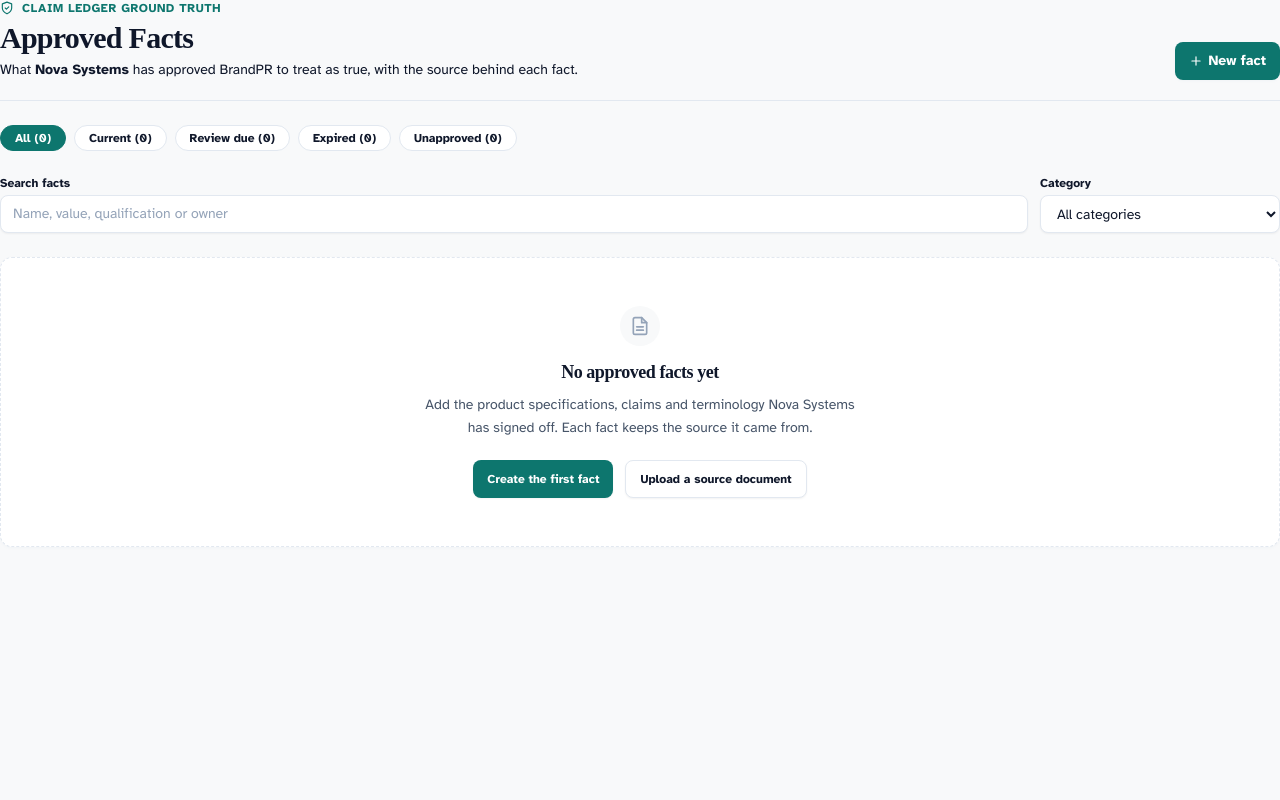
it: Approved Facts page › P1-27: a new fact appears in the list after saving, without a manual refresh
Click the button "Create the first fact".
click(543, 478)  # box [473,460,614,498]
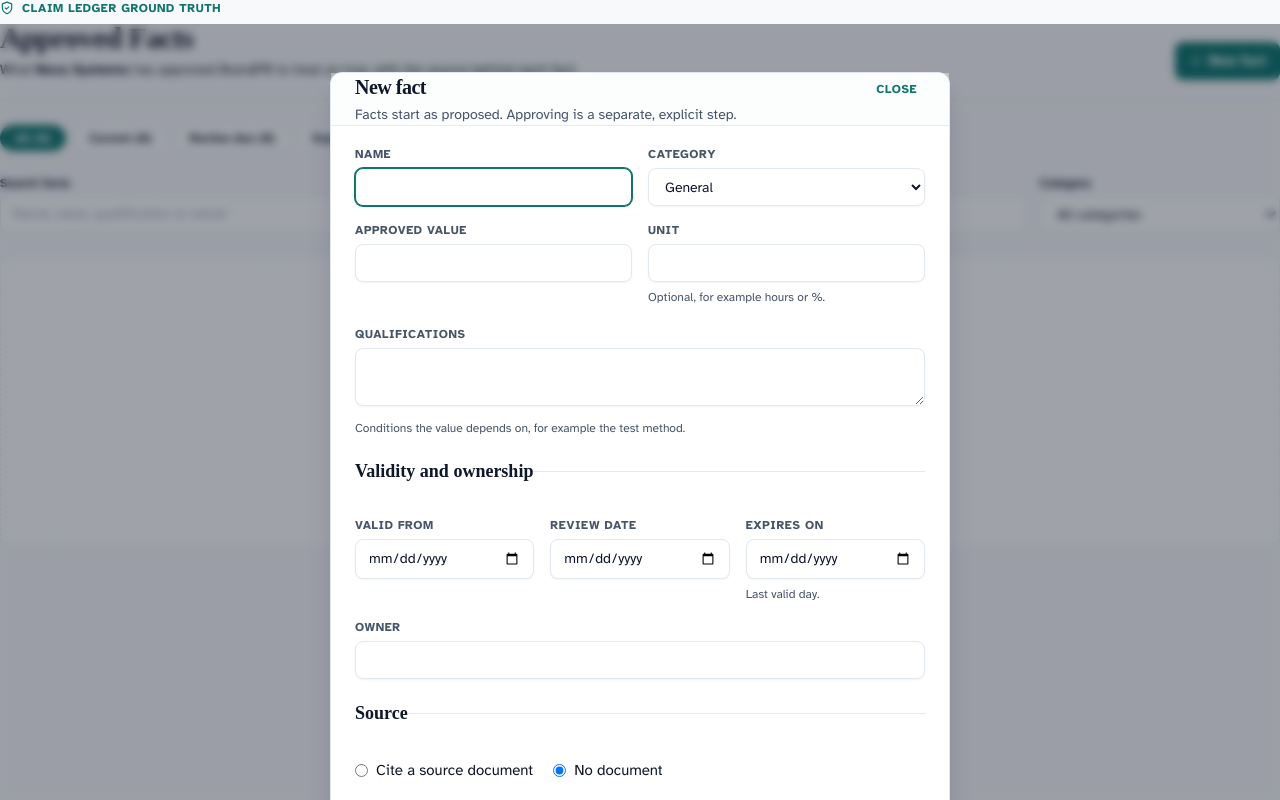
Type "Performance improvement" into the field labelled "Name".
click(494, 187); type("Performance improvement")  # box [355,168,632,206]
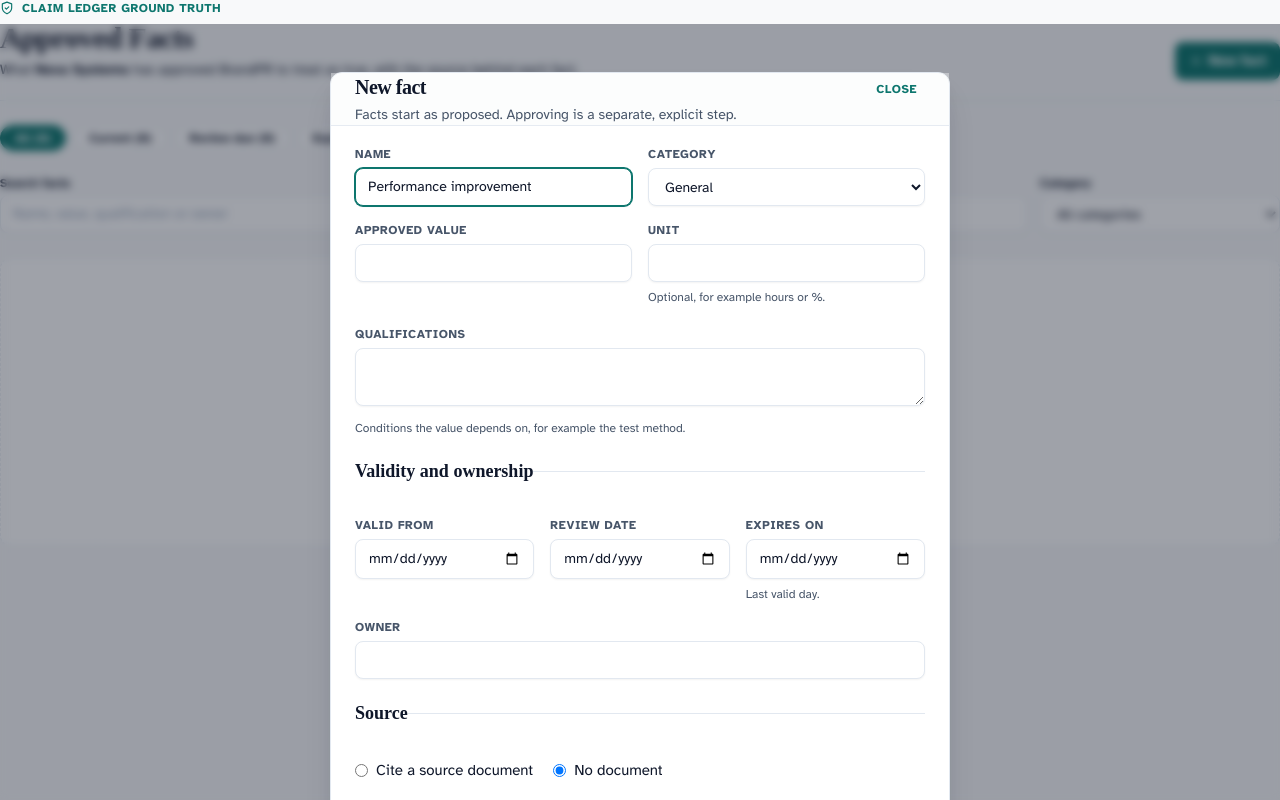
Type "25" into the field labelled "Approved value".
click(494, 263); type("25")  # box [355,244,632,282]
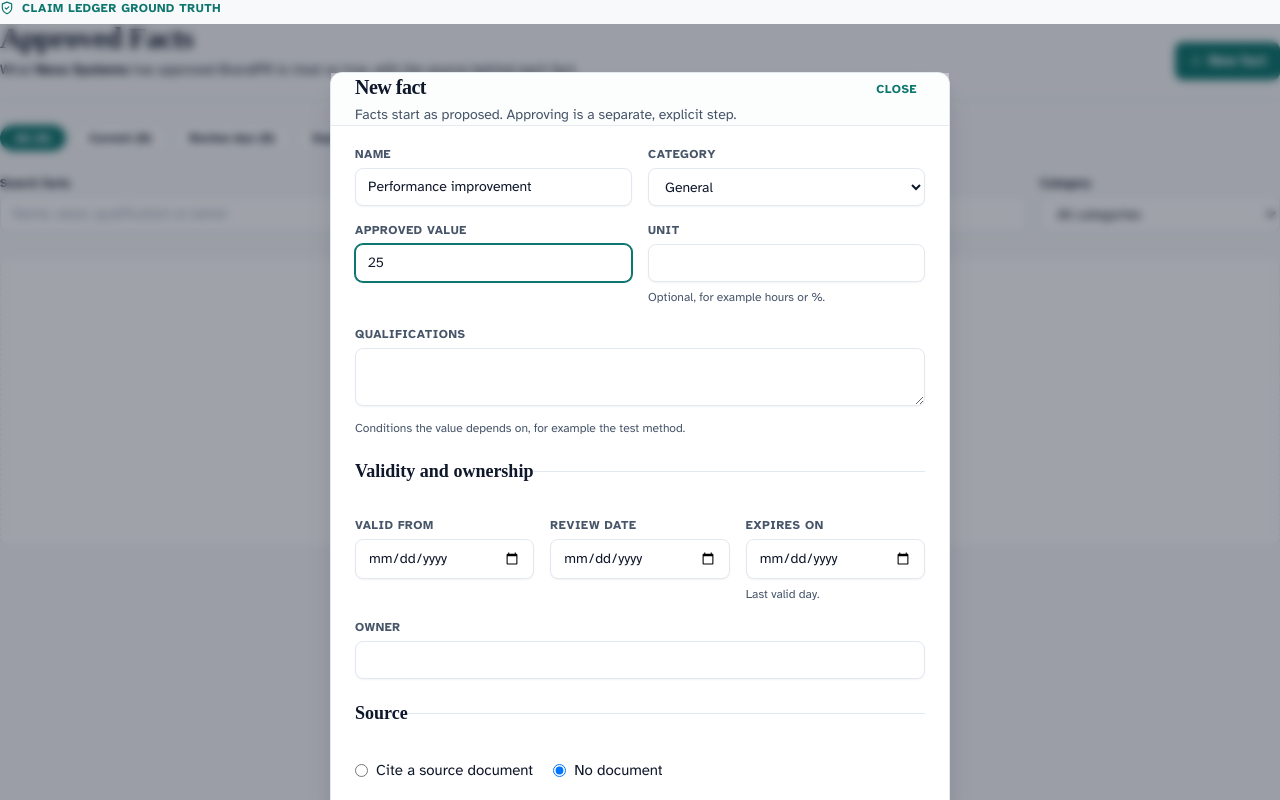
Type "%" into the field labelled "Unit".
click(786, 263); type("%")  # box [648,244,925,282]
(page scrolled)
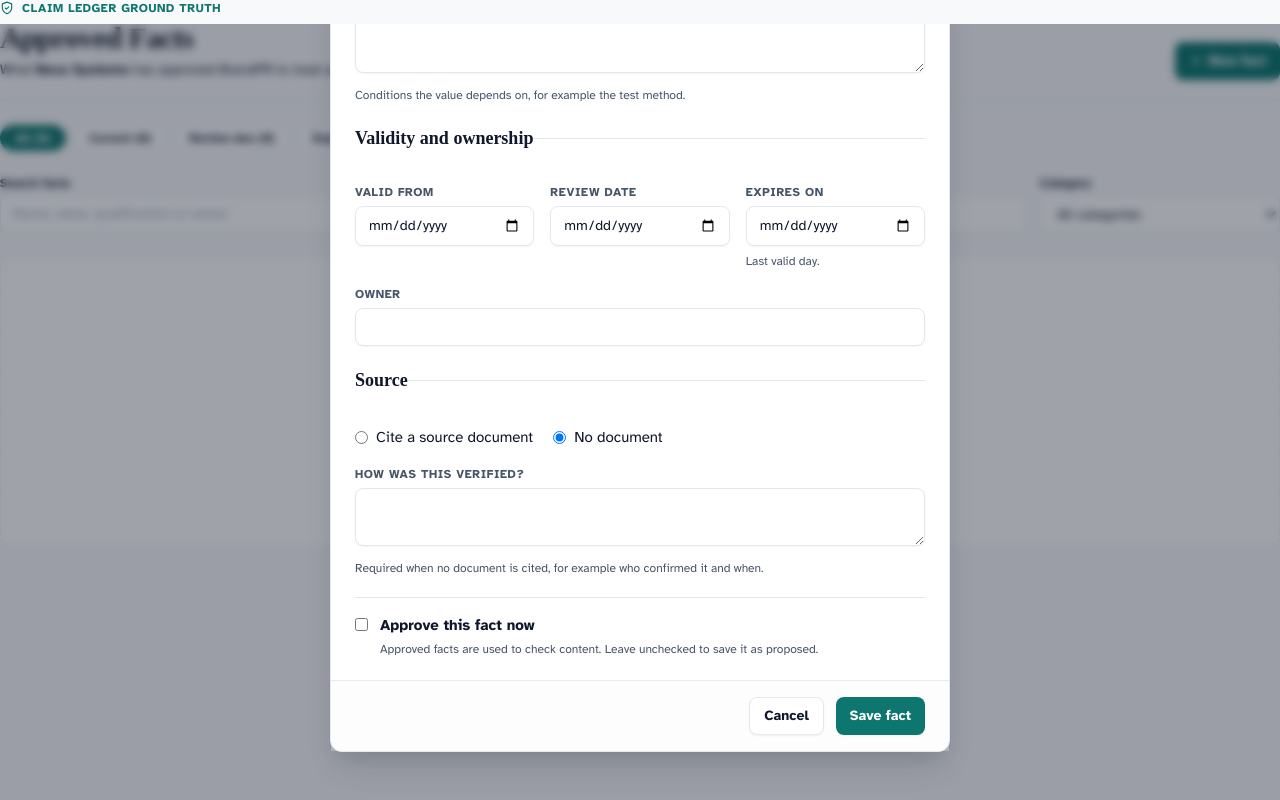
Type "Benchmark report NS-BM-4" into the text box labelled "How was this verified?".
click(640, 516); type("Benchmark report NS-BM-4")  # box [355,488,925,546]
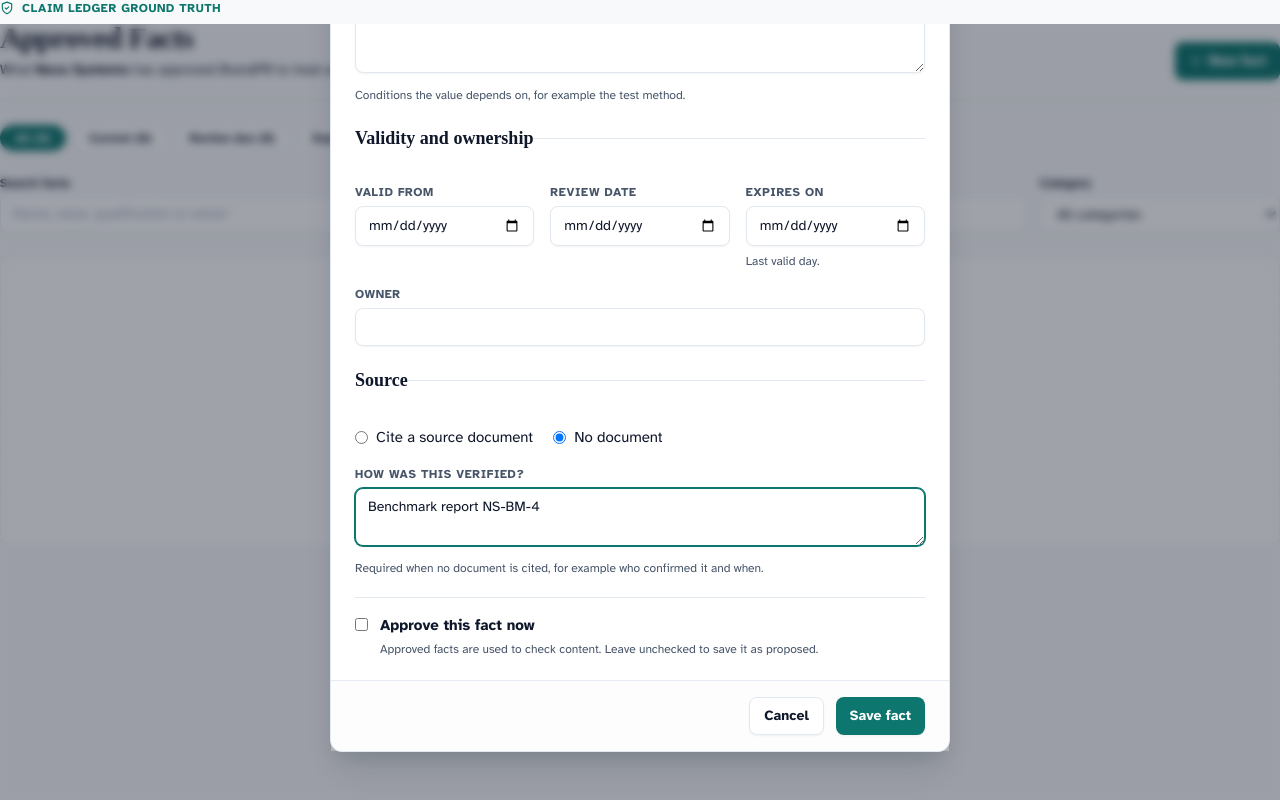
Click the button "Save fact".
click(880, 716)  # box [836,697,925,735]
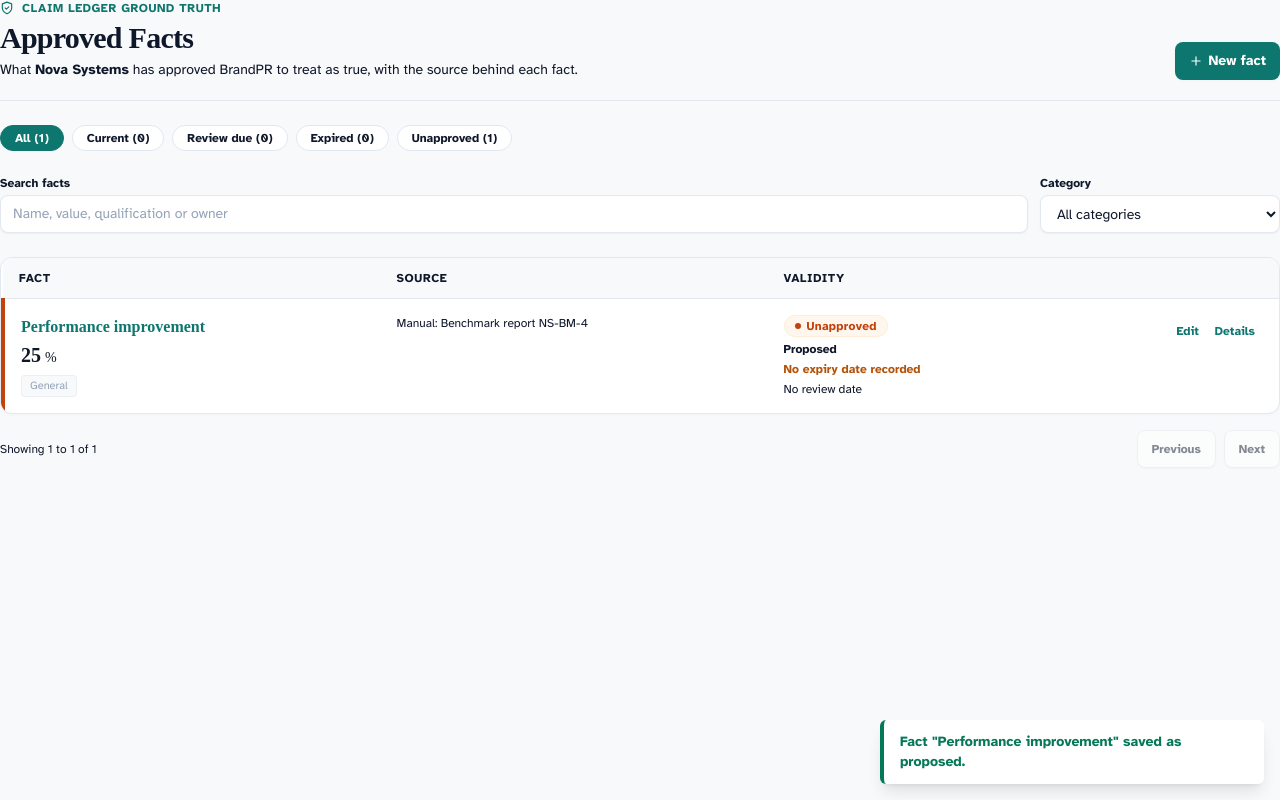
Expected: the button "Performance improvement" is shown, [21,315,205,339]
Expected: the text "Fact \"Performance improvement\" saved as proposed." is shown, [880,720,1264,784]
